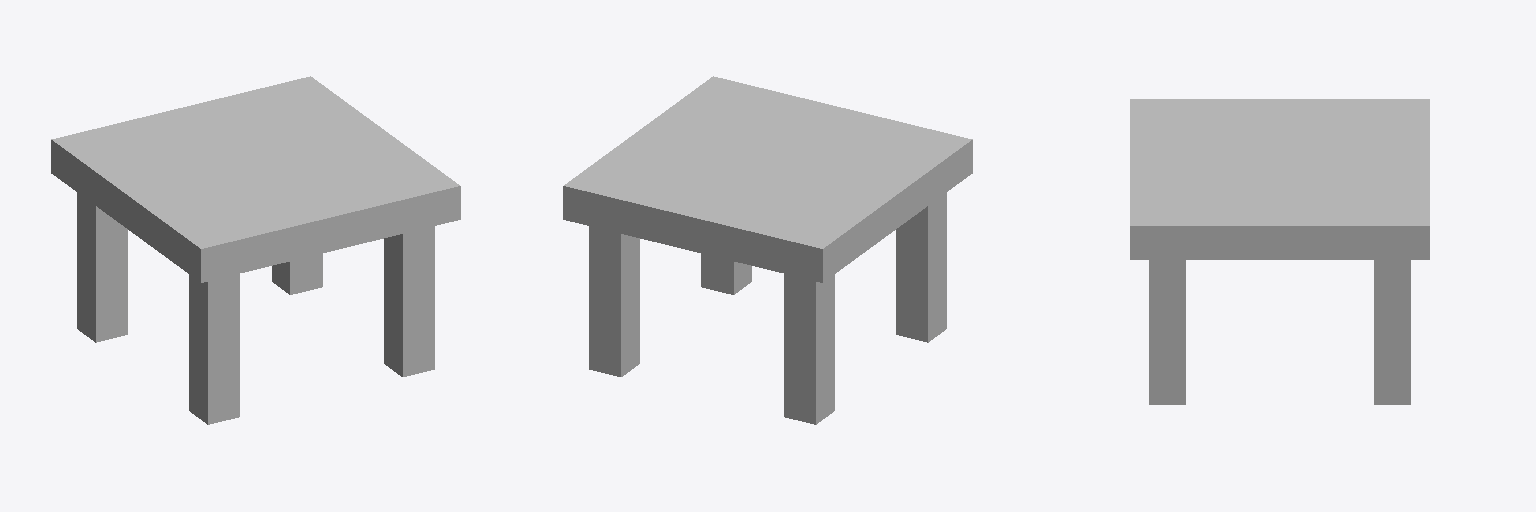
File: Table.obj
3 renders of one model, left to right at view 1: azimuth 30°, elevation 25°; view 2: azimuth 150°, elevation 25°; view 3: azimuth 270°, elevation 25°, orthographic.
Bounding box in the file's own units: 8 × 5.5 × 8.